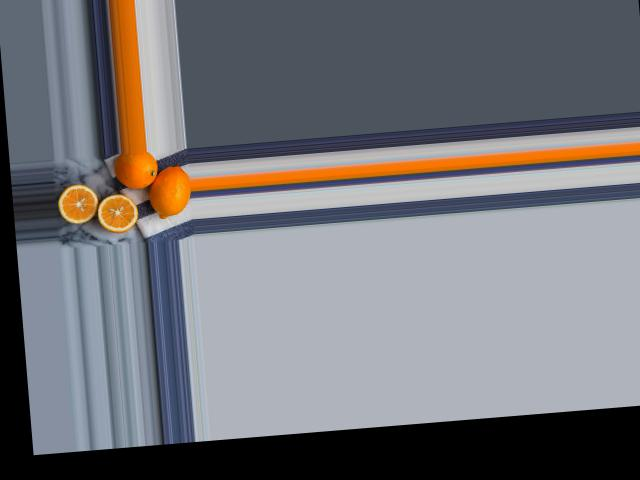lemon: (117, 150, 158, 189)
